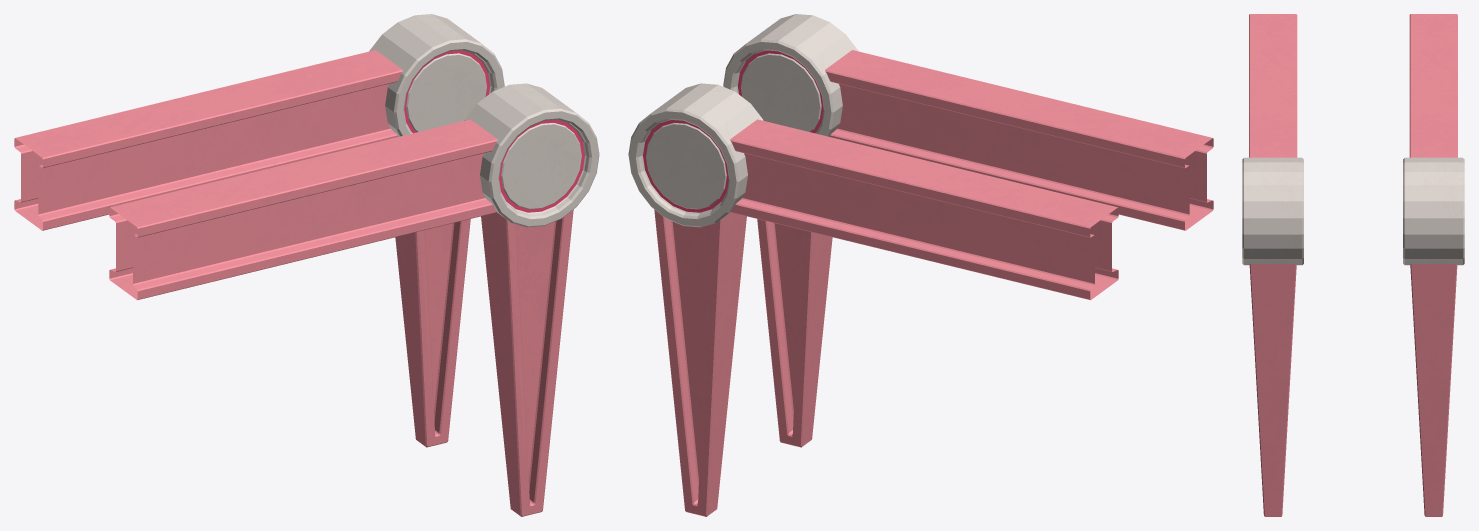
The model's file is ClawAe.fbx.
3 views of the same model, side by side, from view 1: azimuth 30°, elevation 25°; view 2: azimuth 150°, elevation 25°; view 3: azimuth 270°, elevation 25° (orthographic). The views are drawn at different scales.
Parts seen in each view (by area): view 1: SM_VA_ClawAe.mo; view 2: SM_VA_ClawAe.mo; view 3: SM_VA_ClawAe.mo.
Part boxes in pixels (<box>): SM_VA_ClawAe.mo: <box>14,14,599,516</box>; SM_VA_ClawAe.mo: <box>628,14,1213,516</box>; SM_VA_ClawAe.mo: <box>1242,14,1464,516</box>.
Bounding box in the file's own units: 9.31 × 8.02 × 4.62.
